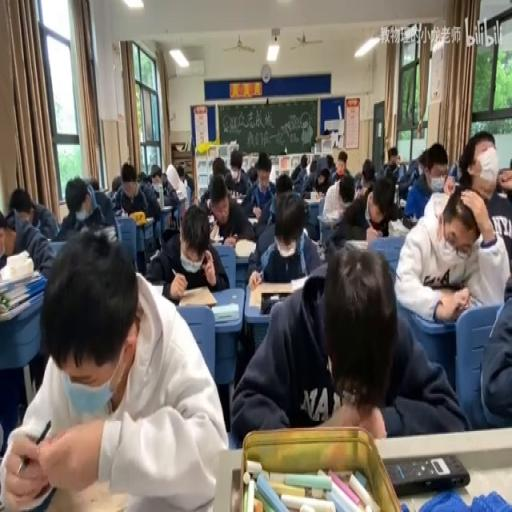calculator: (46, 478, 133, 512), (0, 263, 46, 319), (248, 278, 297, 308), (175, 286, 216, 308), (212, 300, 238, 322), (92, 223, 118, 242), (386, 216, 409, 236), (234, 236, 256, 256), (319, 209, 341, 225), (346, 239, 370, 252), (290, 276, 309, 291), (209, 222, 219, 242), (302, 195, 320, 205), (176, 188, 186, 200), (160, 203, 173, 212), (247, 216, 258, 225), (234, 196, 244, 204), (398, 196, 406, 206), (119, 210, 128, 218), (144, 216, 154, 223), (208, 214, 215, 224)
paper: (4, 228, 225, 509), (230, 240, 460, 442), (394, 180, 508, 322), (149, 202, 227, 300), (247, 188, 320, 292), (470, 277, 510, 431), (2, 192, 56, 279), (114, 161, 162, 250), (56, 174, 114, 240), (326, 176, 372, 248), (459, 136, 499, 200), (163, 162, 189, 222), (224, 150, 250, 196), (299, 156, 321, 194), (382, 144, 404, 182), (330, 152, 348, 185), (274, 170, 293, 194), (140, 176, 158, 199), (497, 168, 512, 195), (254, 152, 270, 174), (414, 149, 426, 175), (447, 158, 461, 180), (3, 206, 16, 229), (210, 158, 226, 176), (362, 158, 374, 182), (316, 172, 330, 191), (183, 171, 194, 195), (150, 165, 162, 183), (354, 170, 363, 194), (86, 175, 100, 189), (248, 166, 258, 184), (112, 174, 122, 192), (175, 164, 184, 180), (136, 170, 146, 184), (326, 154, 332, 170), (162, 171, 168, 186)
person: (384, 452, 470, 494), (228, 466, 241, 510)
